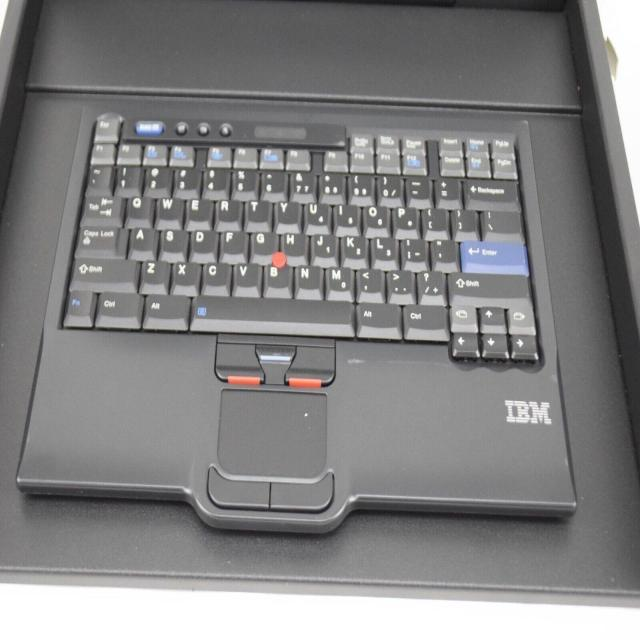keyboard: (16, 103, 580, 518)
